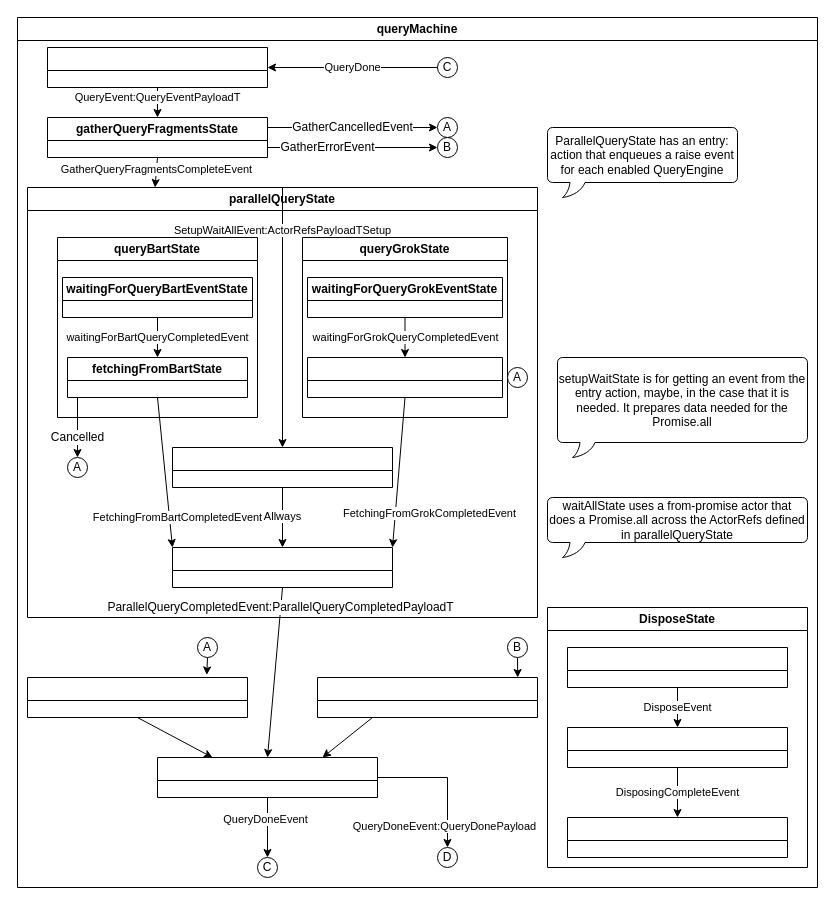
Some shapes in this 835 by 905 pixel diagram are drawn without their labels. The centre of each missing label's shape, as x and y in pixels:
CancelledState: the point at 137,697
DisposedState: the point at 677,837
DisposingState: the point at 677,747
ErrorState: the point at 427,697
fetchingFromGrokState: the point at 404,377
returnDataToCallerState: the point at 267,777
setupWaitAllState: the point at 282,467
waitAllState: the point at 282,567
waitingForDisposeEventState: the point at 677,667
waitingForQueryEventState: the point at 157,67
